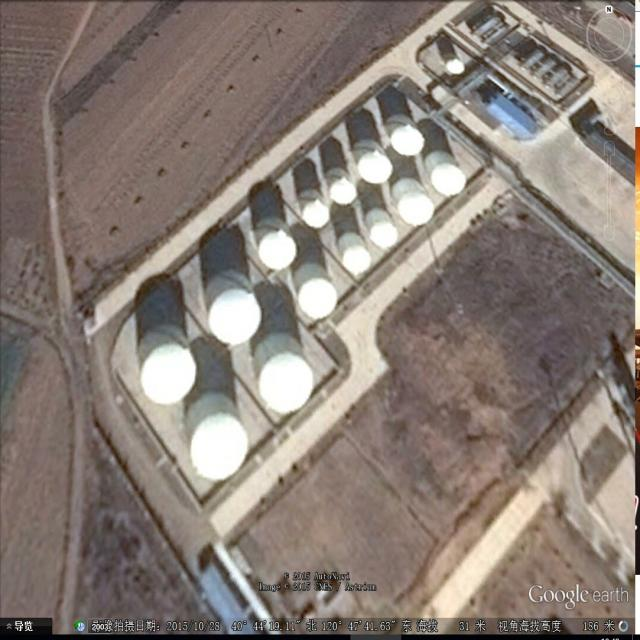oiltank: (183, 388, 254, 484), (133, 319, 201, 411), (251, 328, 319, 419), (201, 263, 265, 351), (290, 259, 343, 323), (249, 212, 303, 274), (390, 176, 439, 230), (423, 149, 470, 201), (350, 135, 396, 188), (382, 112, 430, 162), (322, 162, 361, 212), (335, 229, 375, 277), (363, 206, 403, 253), (294, 187, 335, 232)
